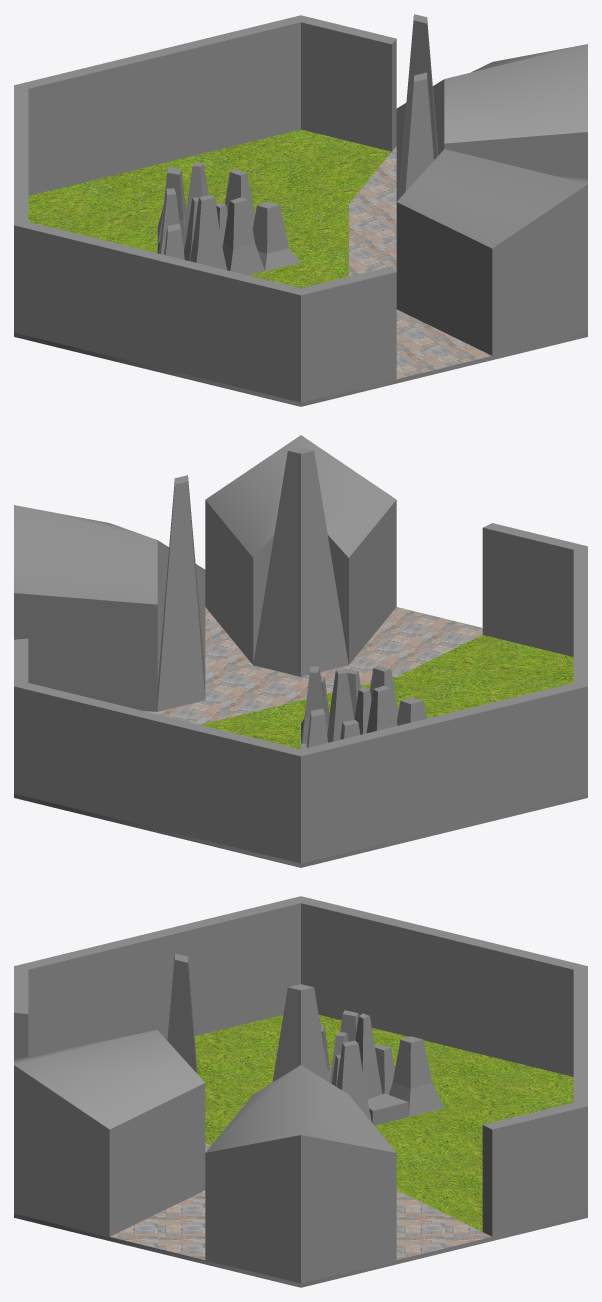
The picture shows the model from 3 angles, top to bottom: view 1: azimuth 30°, elevation 25°; view 2: azimuth 150°, elevation 25°; view 3: azimuth 270°, elevation 25°; orthographic projection.
Parts seen in each view (by area): view 1: Cylinder008; view 2: Cylinder008; view 3: Cylinder008.
Boxes of the visible parts, <box> form: Cylinder008: <box>14,14,587,406</box>; Cylinder008: <box>14,435,587,867</box>; Cylinder008: <box>14,896,587,1287</box>.
Bounding box in the file's own units: 140 × 51 × 121.
5 materials, 2 textured.
